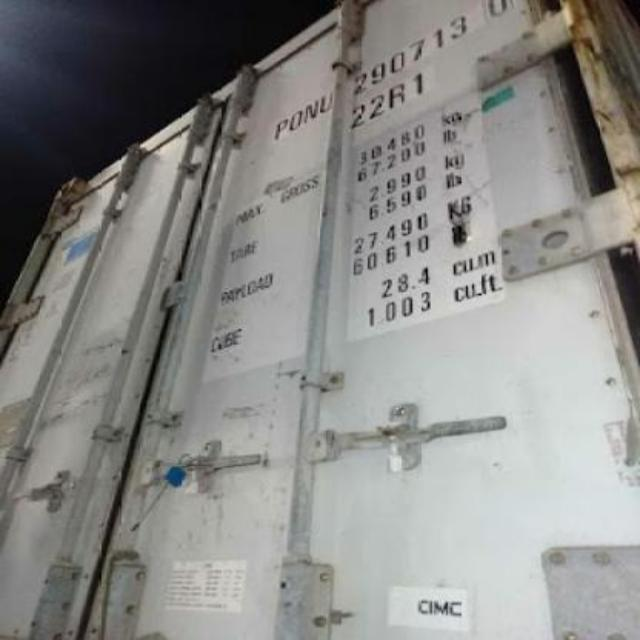0: (386, 52, 406, 72), (486, 2, 508, 16)
1: (432, 28, 446, 50)
2: (352, 74, 368, 95)
3: (448, 15, 468, 39)
7: (411, 36, 424, 62)
9: (370, 62, 386, 84)
N: (304, 99, 318, 123)
O: (290, 110, 304, 130)
P: (272, 120, 288, 140)
U: (321, 93, 334, 113)
